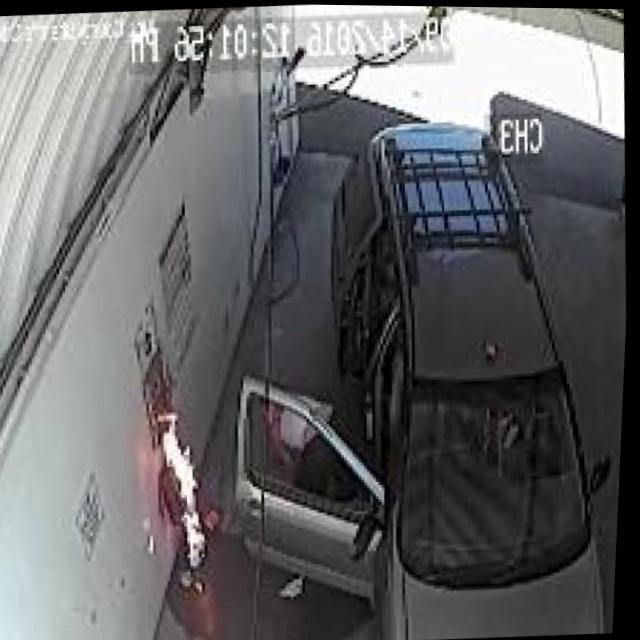fire: (153, 399, 222, 573)
